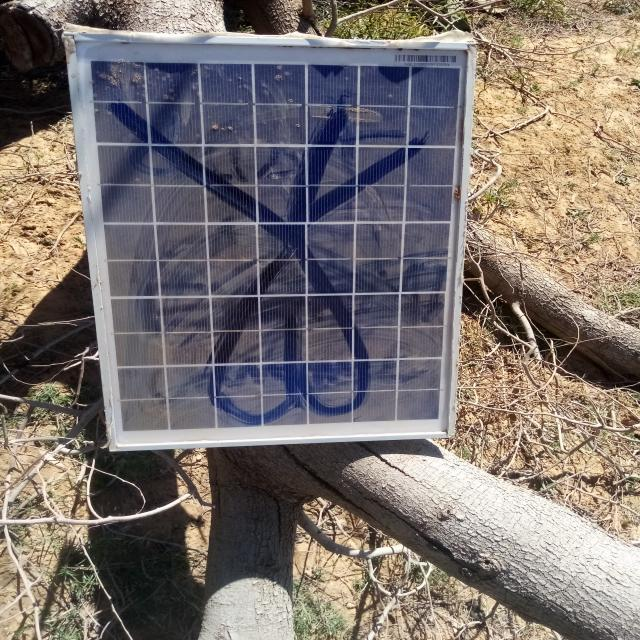faulty: (68, 37, 472, 449)
